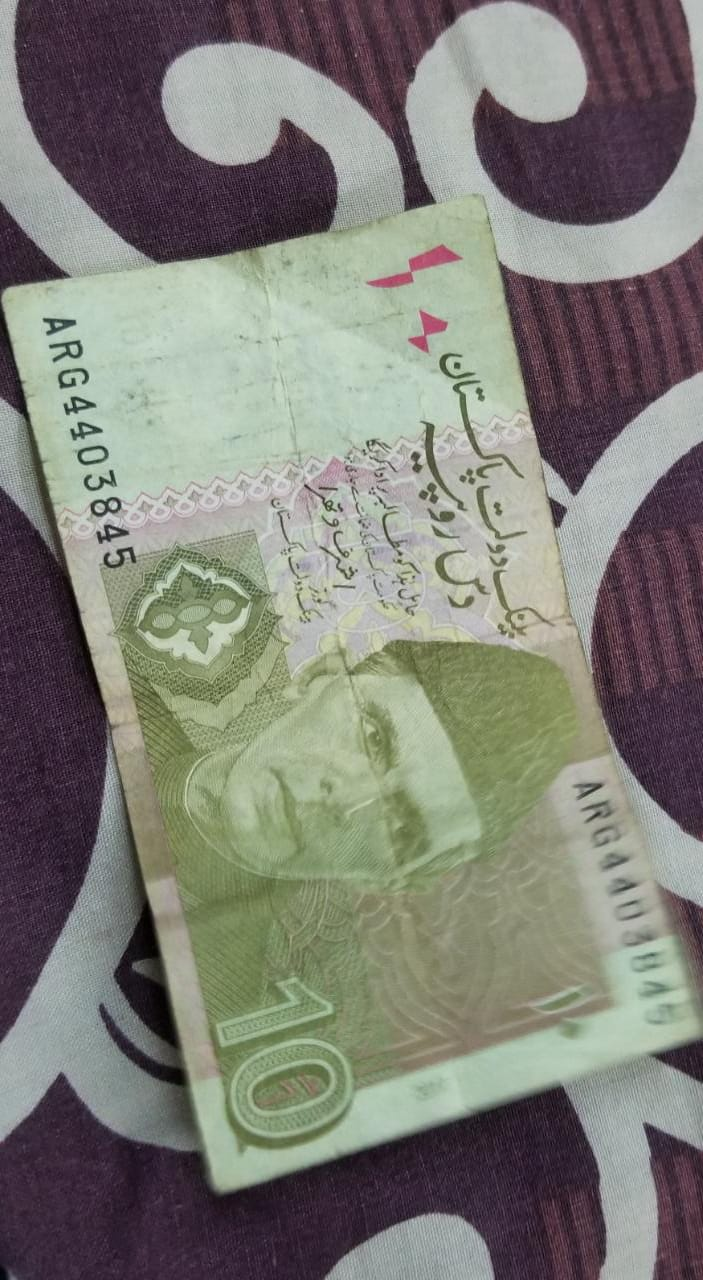10 rupee: (0, 185, 703, 1196)
